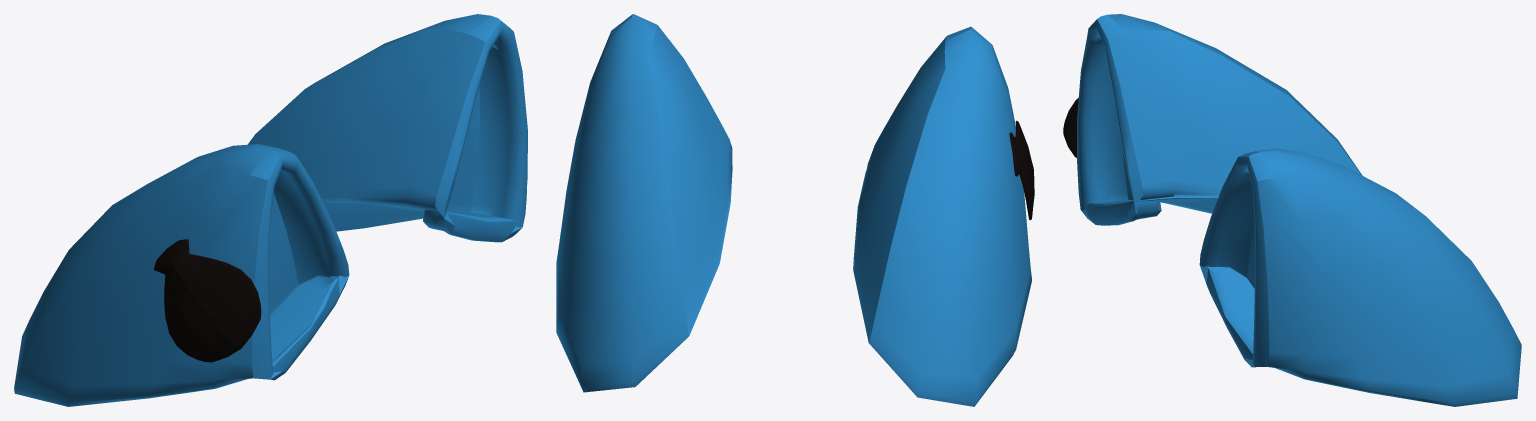
3 views of the same model, side by side, from view 1: azimuth 30°, elevation 25°; view 2: azimuth 150°, elevation 25°; view 3: azimuth 270°, elevation 25° (orthographic). The views are drawn at different scales.
Visible parts, largest first — view 1: ears_006, ear_shell; view 2: ears_006, ear_shell; view 3: ears_006, ear_shell.
Boxes of the visible parts, <box> form: ears_006: <box>14,14,527,406</box>; ear_shell: <box>153,239,261,362</box>; ears_006: <box>556,14,1031,406</box>; ear_shell: <box>1009,120,1034,220</box>; ears_006: <box>1077,14,1521,406</box>; ear_shell: <box>1063,98,1078,157</box>.
Size of the model in its own units: 82.12 by 73.31 by 50.14.
